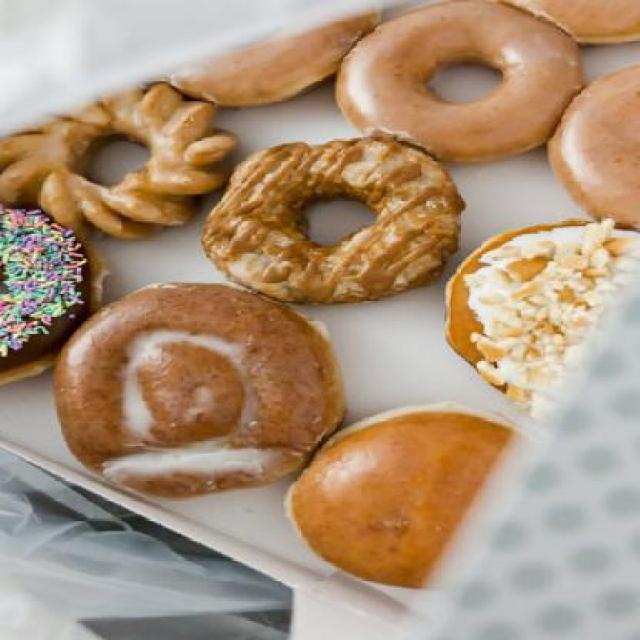Donuts: (1, 3, 638, 600)
